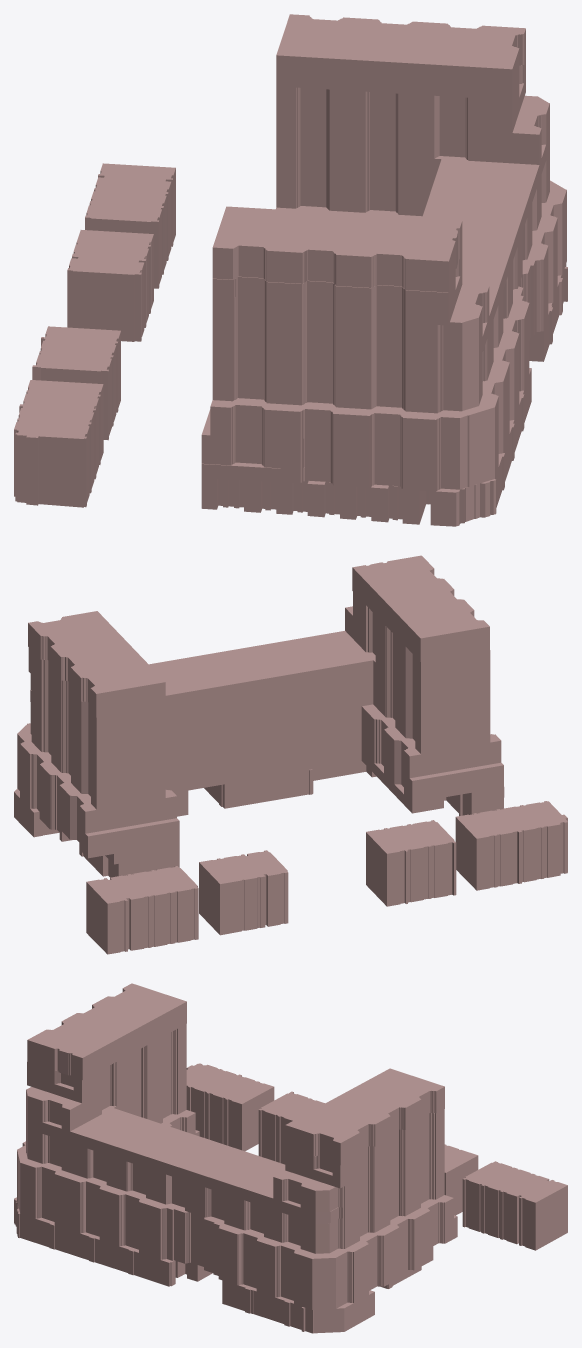
Rendered from 1225-dundas-may2026-plan-envelope.glb.
3 renders of one model, top to bottom at view 1: azimuth 30°, elevation 25°; view 2: azimuth 150°, elevation 25°; view 3: azimuth 270°, elevation 25°, orthographic. The views are drawn at different scales.
Parts seen in each view (by area): view 1: dundas-1225-may2026-plan-envelope; view 2: dundas-1225-may2026-plan-envelope; view 3: dundas-1225-may2026-plan-envelope.
Boxes of the visible parts, <box> form: dundas-1225-may2026-plan-envelope: <box>14,14,567,526</box>; dundas-1225-may2026-plan-envelope: <box>14,555,567,954</box>; dundas-1225-may2026-plan-envelope: <box>14,983,567,1333</box>.
Bounding box in the file's own units: 135 × 52.8 × 144.
